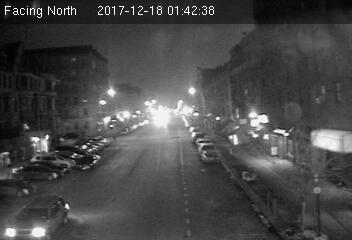car: (2, 193, 71, 240), (76, 154, 102, 169), (201, 149, 222, 164)
